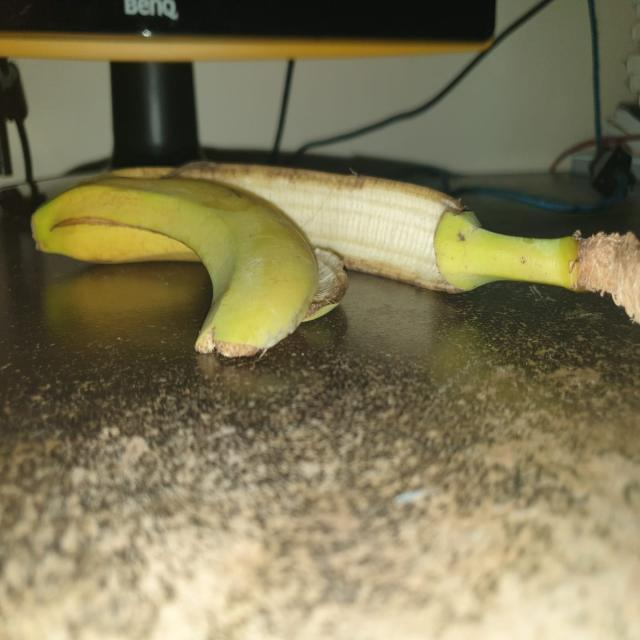banana-peel: (105, 158, 637, 327), (29, 171, 348, 358)
